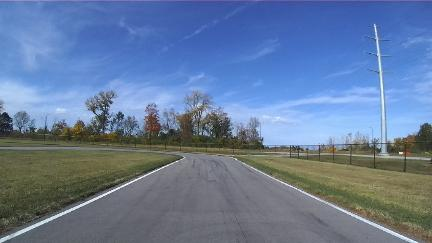Grass: (236, 157, 431, 241), (0, 151, 181, 234), (320, 155, 431, 175)
Lane: (8, 153, 406, 242)
